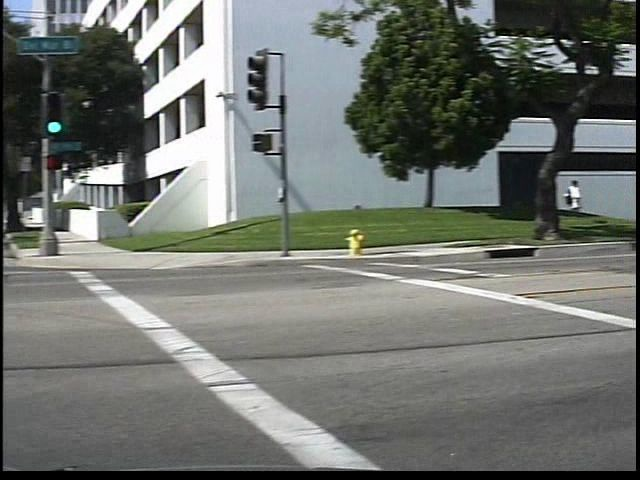person: (577, 172, 599, 234)
